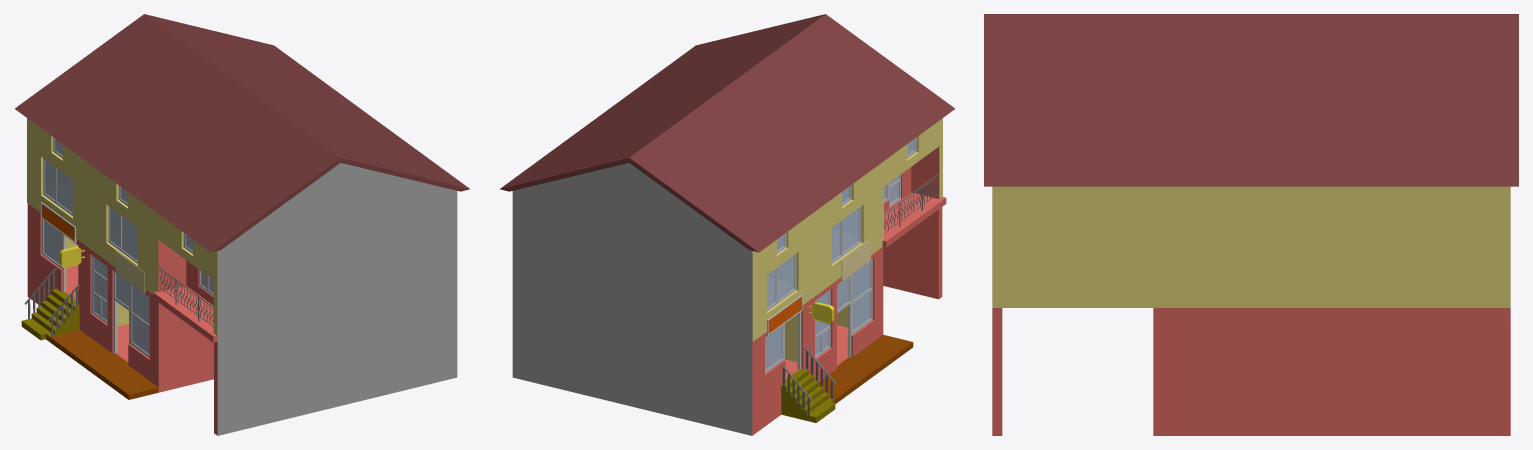
File: restaurant-and-store-building.glb
3 views of the same model, side by side, from view 1: azimuth 30°, elevation 25°; view 2: azimuth 150°, elevation 25°; view 3: azimuth 270°, elevation 25° (orthographic). The views are drawn at different scales.
Visible parts, largest first — view 1: MainBuilding, Plane.001, Cube.004, Cube.011, Cube.016, Cube.014, StoreBigWindow, Cube.025, Cube.003, Cube.007, Cylinder.005, Cube.002 (+5 smaller); view 2: MainBuilding, Plane.001, Cube.011, Cube.016, Cube.014, StoreBigWindow, Cube.003, Cube.025, Cylinder.005, Cube.002, Cube.021, Cube.007 (+4 smaller); view 3: MainBuilding, Plane.001.
Boxes of the visible parts, x1,y1,x2,y2 form: MainBuilding: (27,118,457,435); Plane.001: (15,14,469,252); Cube.004: (161,244,213,391); Cube.011: (49,329,158,399); Cube.016: (153,286,216,342); Cube.014: (27,289,79,341); StoreBigWindow: (130,283,149,357); Cube.025: (43,158,72,215); Cube.003: (108,206,137,263); Cube.007: (92,255,107,323); Cylinder.005: (159,267,213,326); Cube.002: (42,219,62,269); MainBuilding: (512,118,942,435); Plane.001: (500,14,954,252); Cube.011: (819,335,913,403); Cube.016: (882,192,946,247); Cube.014: (781,368,834,421); StoreBigWindow: (851,259,872,335); Cube.003: (832,206,861,263); Cube.025: (767,254,796,311); Cylinder.005: (884,174,938,233); Cube.002: (765,324,783,373); Cube.021: (841,239,870,280); Cube.007: (815,290,830,358); MainBuilding: (992,186,1510,435); Plane.001: (984,14,1518,186).
Bounding box in the file's own units: 28.5 × 24.04 × 34.07.
